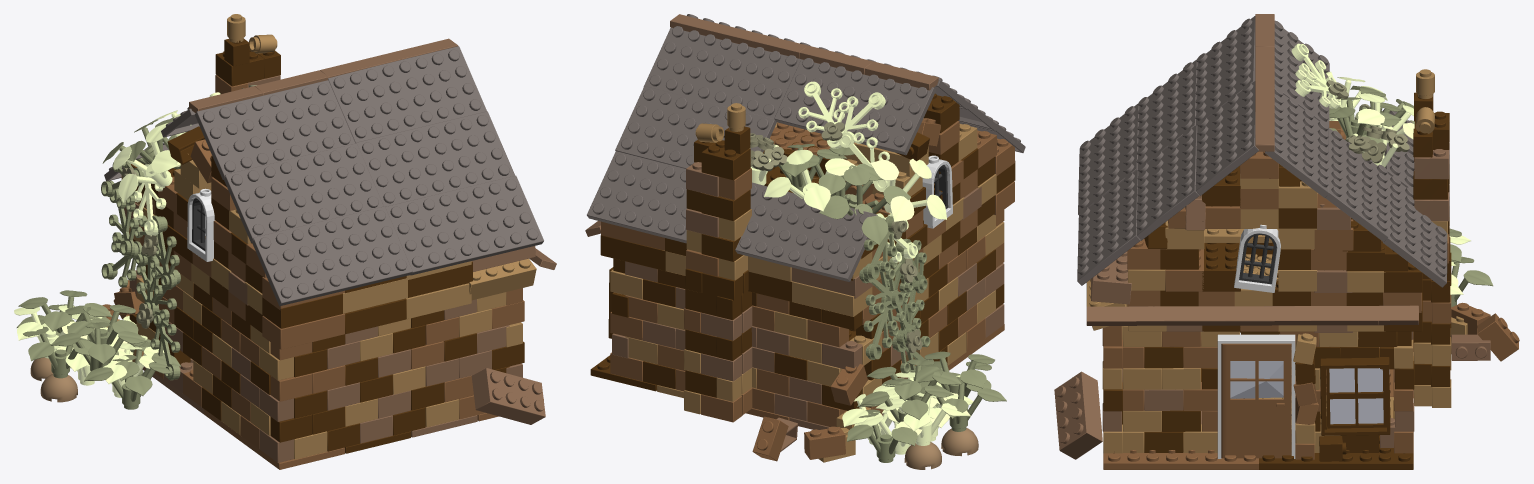
The model's file is rundown_house.glb.
3 views of the same model, side by side, from view 1: azimuth 30°, elevation 25°; view 2: azimuth 150°, elevation 25°; view 3: azimuth 270°, elevation 25° (orthographic). The views are drawn at different scales.
Parts seen in each view (by area): view 1: RDH_EXPORT_TMP; view 2: RDH_EXPORT_TMP; view 3: RDH_EXPORT_TMP.
Boxes of the visible parts, <box> form: RDH_EXPORT_TMP: <box>14,14,556,469</box>; RDH_EXPORT_TMP: <box>585,14,1025,469</box>; RDH_EXPORT_TMP: <box>1054,14,1519,469</box>.
Size of the model in its own units: 8.91 by 6.8 by 8.82.
